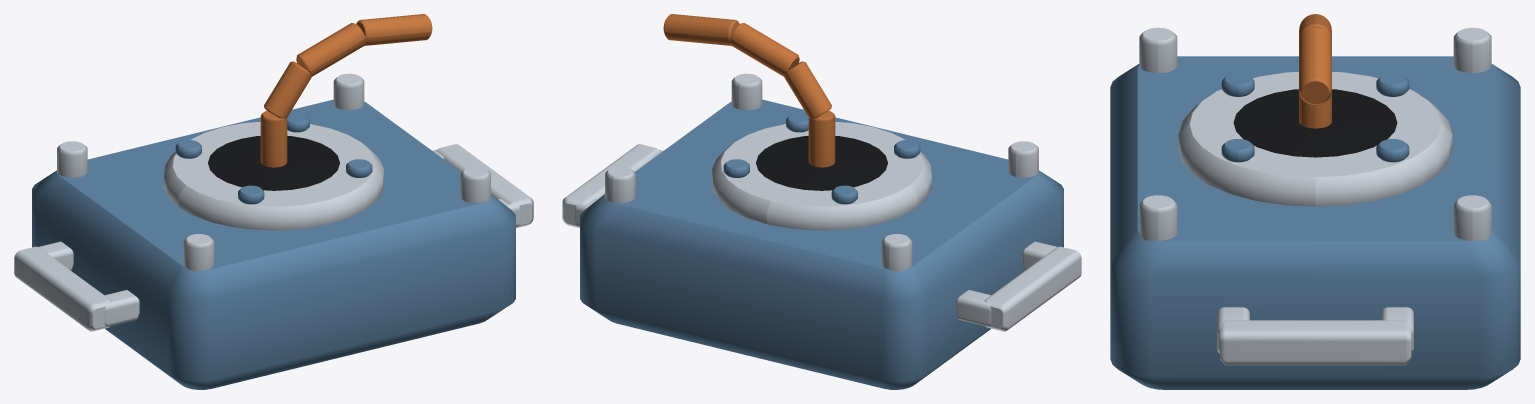
File: objet_moule_fil.glb
The picture shows the model from 3 angles, left to right: view 1: azimuth 30°, elevation 25°; view 2: azimuth 150°, elevation 25°; view 3: azimuth 270°, elevation 25°; orthographic projection. The views are drawn at different scales.
Visible parts, largest first — view 1: moule_moule_corps.006, moule_moule_acier.006, moule_cuivre.002, moule_moule_creux.006; view 2: moule_moule_corps.006, moule_moule_acier.006, moule_cuivre.002, moule_moule_creux.006; view 3: moule_moule_corps.006, moule_moule_acier.006, moule_moule_creux.006, moule_cuivre.002.
Boxes of the visible parts, x1=… form: moule_moule_corps.006: x1=32, y1=99, x2=515, y2=389; moule_moule_acier.006: x1=14, y1=73, x2=533, y2=331; moule_cuivre.002: x1=260, y1=14, x2=432, y2=167; moule_moule_creux.006: x1=208, y1=136, x2=339, y2=190; moule_moule_corps.006: x1=580, y1=99, x2=1063, y2=389; moule_moule_acier.006: x1=562, y1=73, x2=1081, y2=331; moule_cuivre.002: x1=663, y1=14, x2=835, y2=167; moule_moule_creux.006: x1=756, y1=136, x2=887, y2=190; moule_moule_corps.006: x1=1110, y1=56, x2=1520, y2=389; moule_moule_acier.006: x1=1139, y1=27, x2=1491, y2=365; moule_moule_creux.006: x1=1233, y1=89, x2=1397, y2=157; moule_cuivre.002: x1=1299, y1=14, x2=1331, y2=128.
Size of the model in its own units: 0.234 by 0.1308 by 0.15.
